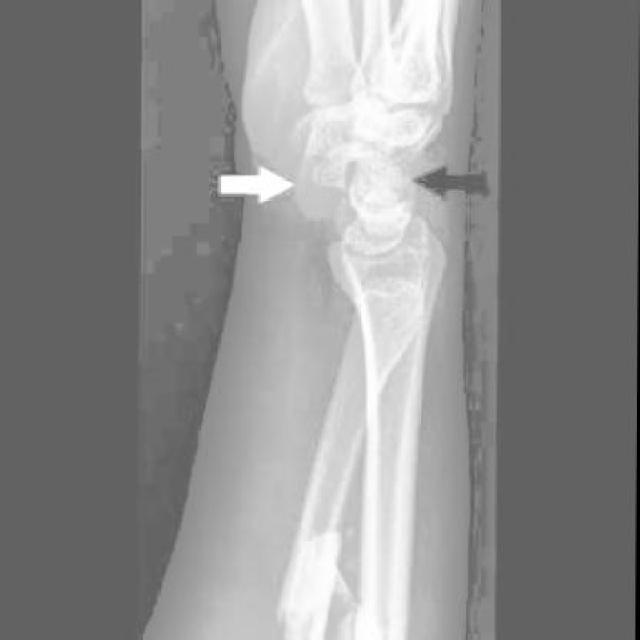Fracture: (302, 122, 395, 226)
